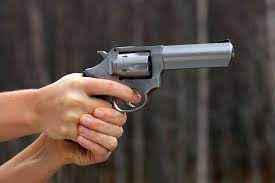gun: (77, 36, 240, 114)
